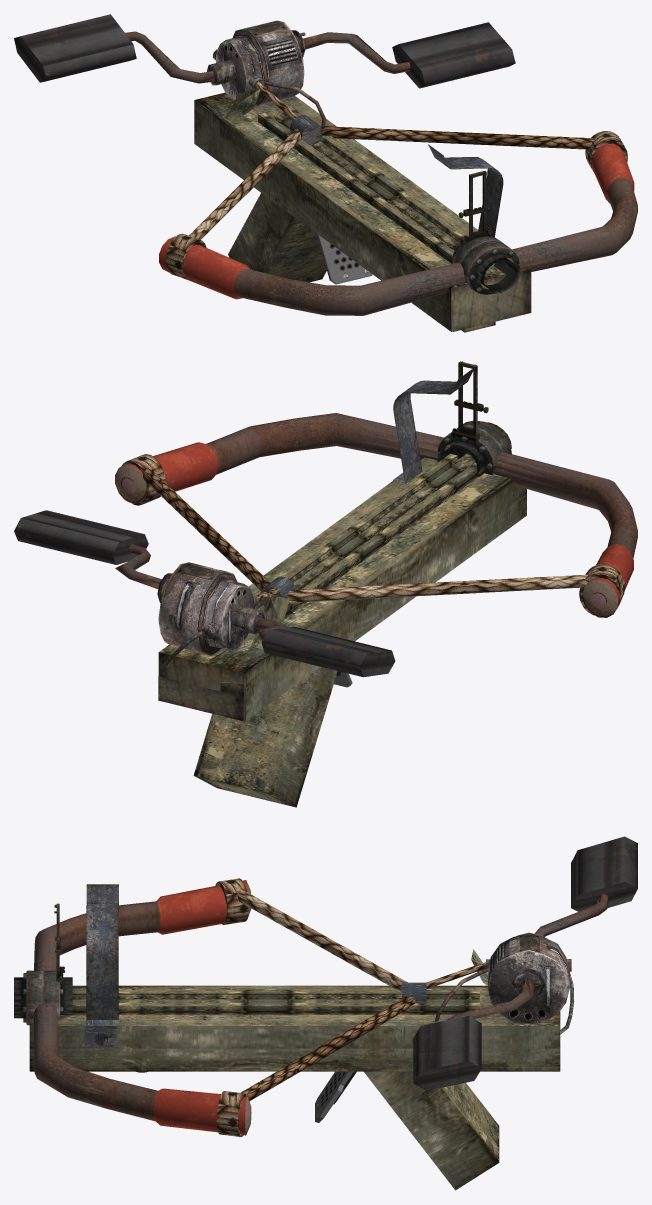
3 views of the same model, one above another, from view 1: azimuth 30°, elevation 25°; view 2: azimuth 150°, elevation 25°; view 3: azimuth 270°, elevation 25° (orthographic). The views are drawn at different scales.
Visible parts, largest first — view 1: Body, Prode, Cranks, Misc Wood, Rope Prode, Bolted Arrow Holder, Rope tided, Trigger, Sight, Quarrel; view 2: Body, Prode, Cranks, Misc Wood, Rope Prode, Bolted Arrow Holder, Rope tided, Sight; view 3: Body, Prode, Cranks, Misc Wood, Rope Prode, Bolted Arrow Holder, Rope tided, Trigger, Misc Metal.
Part boxes in pixels (x1=…): Body: x1=194, y1=20, x2=531, y2=332; Prode: x1=159, y1=143, x2=637, y2=315; Cranks: x1=14, y1=14, x2=515, y2=88; Misc Wood: x1=258, y1=106, x2=494, y2=266; Rope Prode: x1=189, y1=126, x2=593, y2=239; Bolted Arrow Holder: x1=452, y1=235, x2=520, y2=294; Rope tided: x1=166, y1=131, x2=627, y2=280; Trigger: x1=316, y1=233, x2=372, y2=284; Sight: x1=458, y1=170, x2=490, y2=242; Quarrel: x1=290, y1=115, x2=322, y2=145; Body: x1=153, y1=367, x2=526, y2=807; Prode: x1=115, y1=413, x2=637, y2=617; Cranks: x1=14, y1=510, x2=395, y2=677; Misc Wood: x1=249, y1=453, x2=480, y2=634; Rope Prode: x1=143, y1=468, x2=587, y2=602; Bolted Arrow Holder: x1=437, y1=421, x2=511, y2=477; Rope tided: x1=121, y1=454, x2=625, y2=615; Sight: x1=451, y1=361, x2=488, y2=442; Body: x1=29, y1=884, x2=574, y2=1190; Prode: x1=33, y1=880, x2=251, y2=1135; Cranks: x1=413, y1=836, x2=637, y2=1090; Misc Wood: x1=72, y1=990, x2=479, y2=1014; Rope Prode: x1=237, y1=890, x2=415, y2=1101; Bolted Arrow Holder: x1=14, y1=970, x2=72, y2=1025; Rope tided: x1=215, y1=878, x2=248, y2=1136; Trigger: x1=315, y1=1071, x2=356, y2=1122; Misc Metal: x1=85, y1=1020, x2=147, y2=1072.
Bounding box in the file's own units: 49.58 × 27.66 × 56.45.
Materials: 13 (13 with a texture image).
